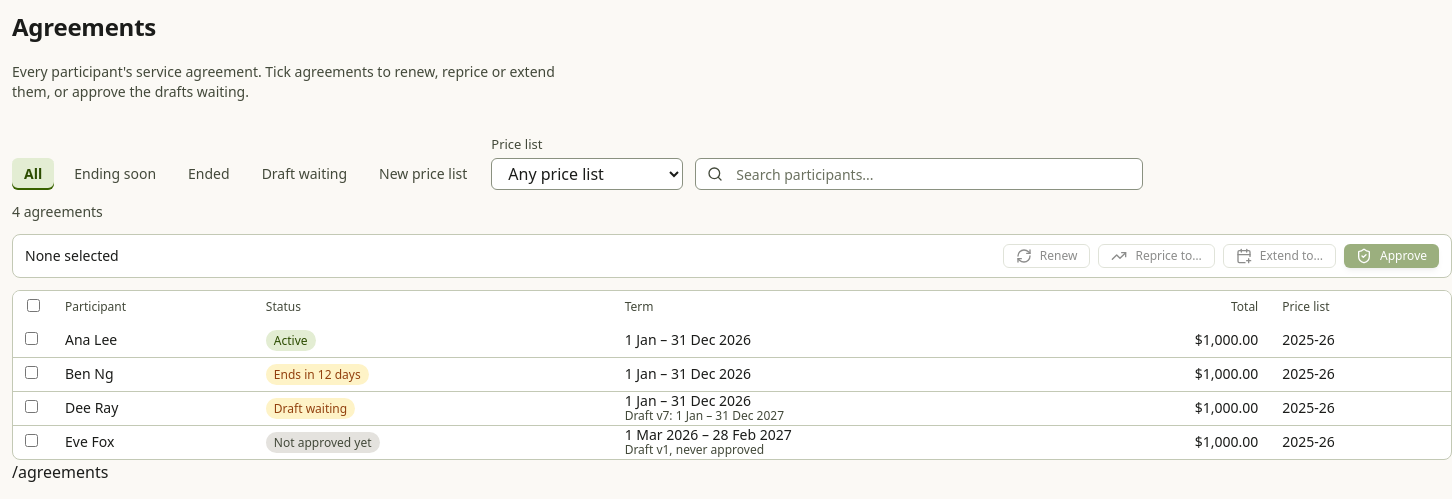
Test: AgreementsPage › counts only the ticked rows that have a draft, and explains an Approve that has nothing to do
Expected: the text "None selected" is shown, [25, 246, 119, 266]
Click the checkbox named "Select row Ana Lee".
click(32, 338)  # box [25, 332, 38, 345]
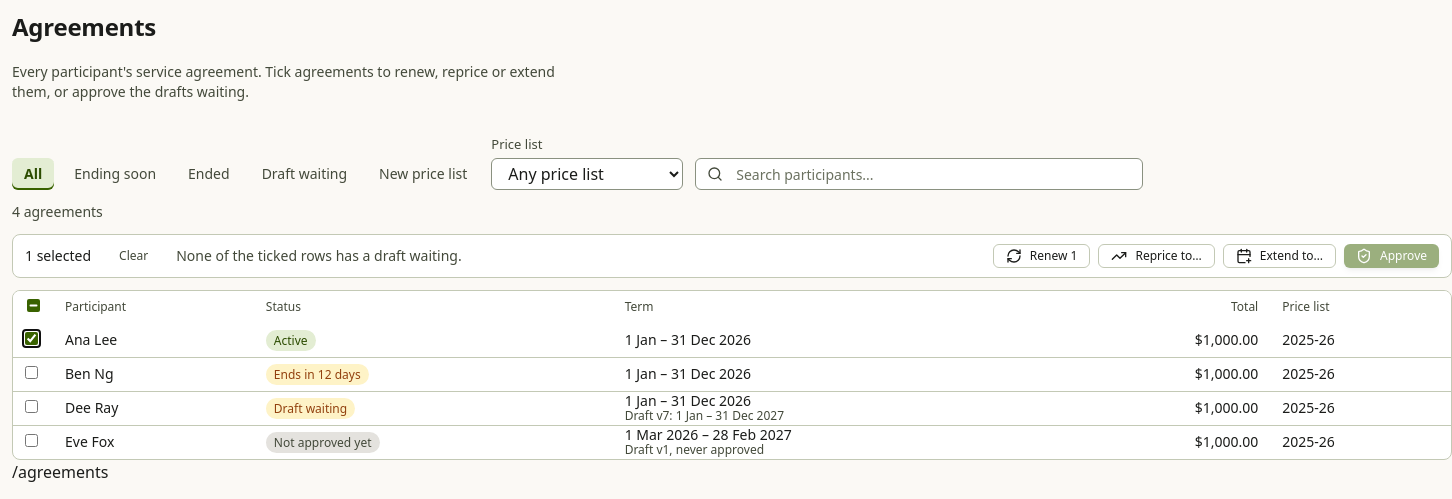
Expected: the button "Approve" is disabled, [1344, 244, 1439, 268]
Expected: the text "None of the ticked rows has a draft waiting." is shown, [176, 246, 462, 266]
Click the checkbox named "Select row Dee Ray".
click(32, 407)  # box [25, 400, 38, 413]
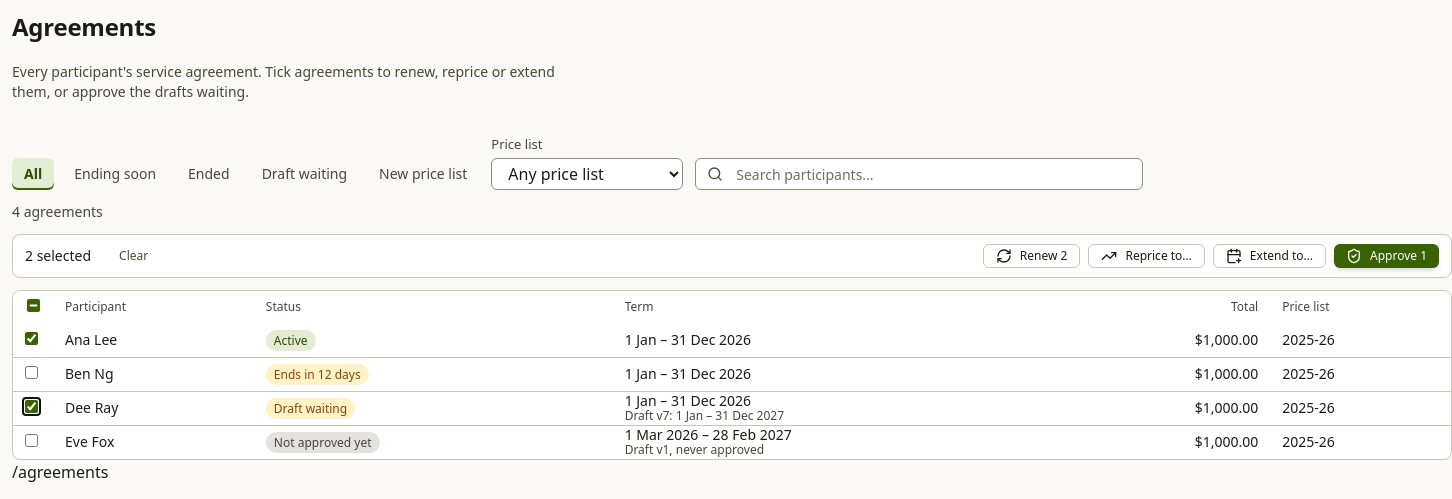
Expected: the button "Approve 1" is enabled, [1334, 244, 1439, 268]
Expected: the text "2 selected" is shown, [25, 246, 91, 266]
